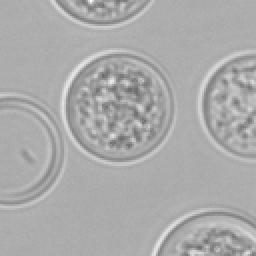picoshell: (60, 48, 176, 164), (0, 92, 66, 208), (196, 50, 254, 162), (150, 208, 254, 254), (50, 0, 152, 28)
